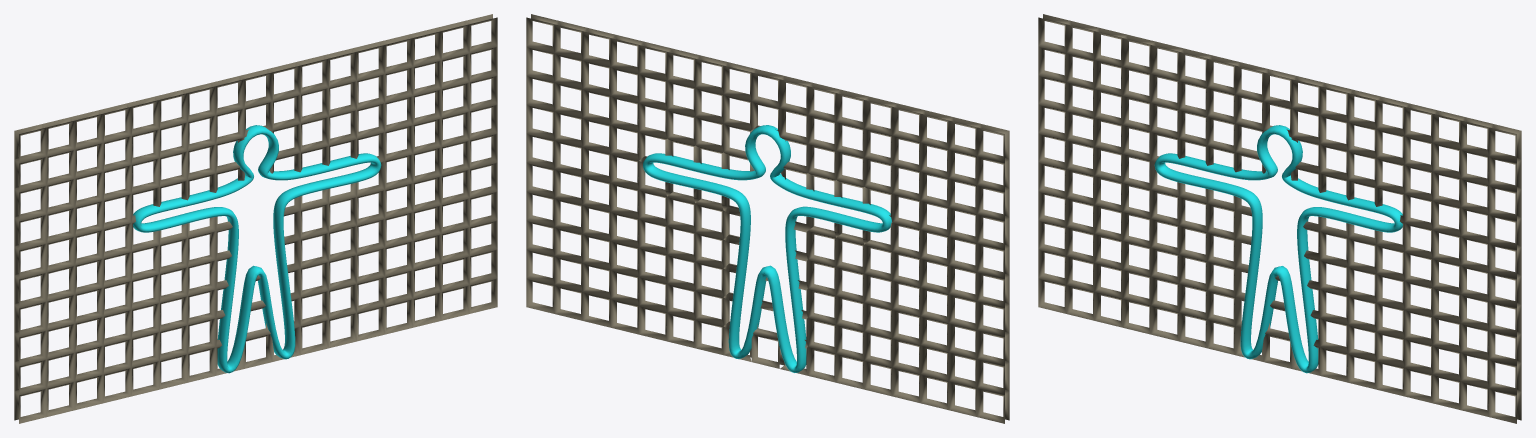
File: [poo]_St2_Grid_33.fbx
3 renders of one model, left to right at view 1: azimuth 30°, elevation 25°; view 2: azimuth 150°, elevation 25°; view 3: azimuth 330°, elevation 25°, orthographic.
Parts seen in each view (by area): view 1: Grid_33; view 2: Grid_33; view 3: Grid_33.
Boxes of the visible parts, box(x1,y1,x2,y2) form: Grid_33: box(14, 14, 497, 423); Grid_33: box(526, 14, 1009, 423); Grid_33: box(1038, 14, 1521, 423).
Bounding box in the file's own units: 1604 × 931 × 45.72.
